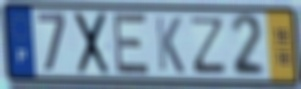2: (228, 11, 268, 80)
7: (35, 10, 69, 75)
E: (112, 11, 152, 77)
K: (153, 13, 187, 76)
X: (73, 10, 112, 78)
Z: (190, 15, 227, 76)
